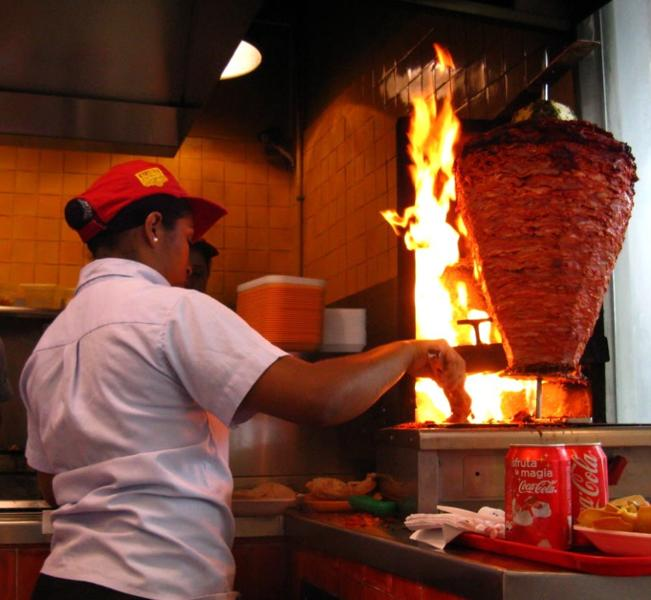person: (19, 159, 469, 600)
